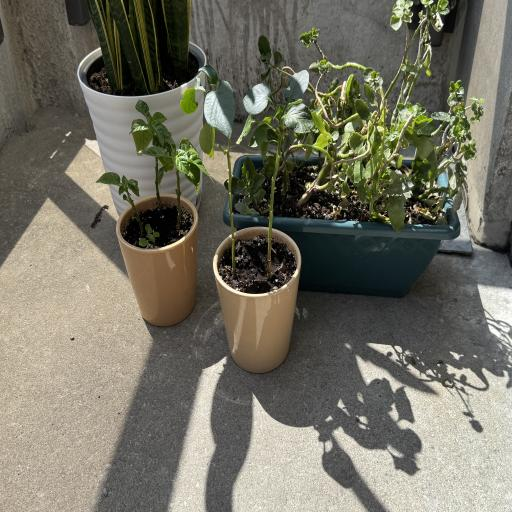Plant Pot: (223, 150, 461, 296), (78, 36, 205, 220), (214, 227, 302, 373), (118, 196, 200, 328)
